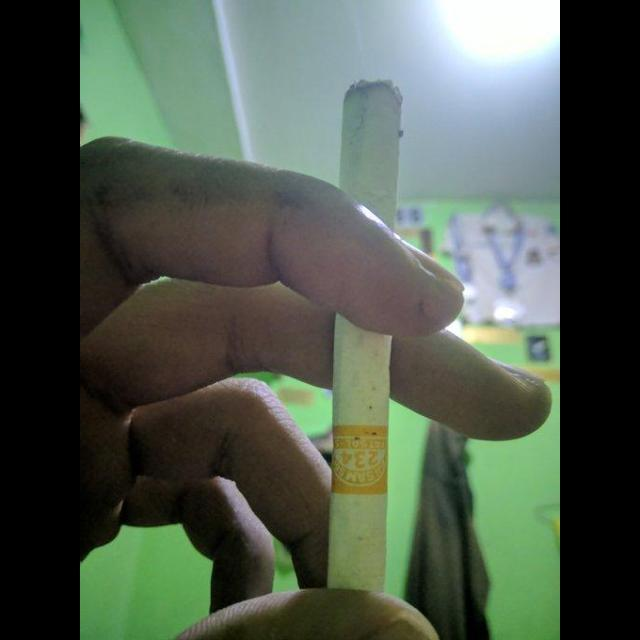rokok: (324, 69, 396, 596)
